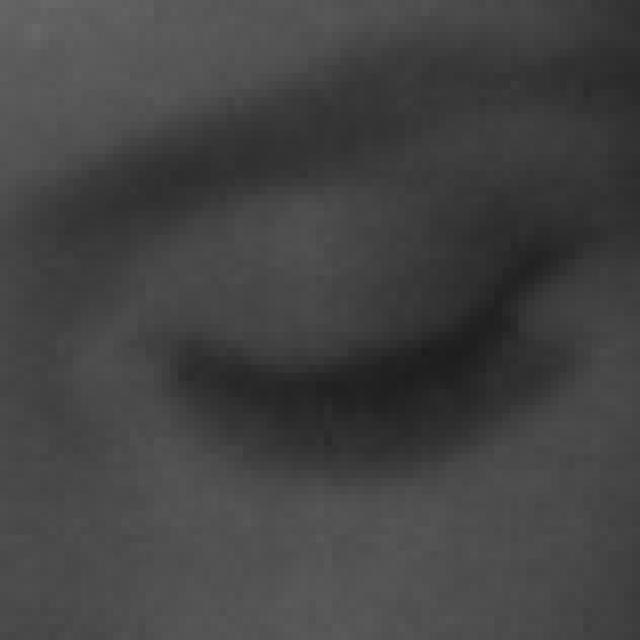Eyeclosed: (173, 155, 565, 570)
